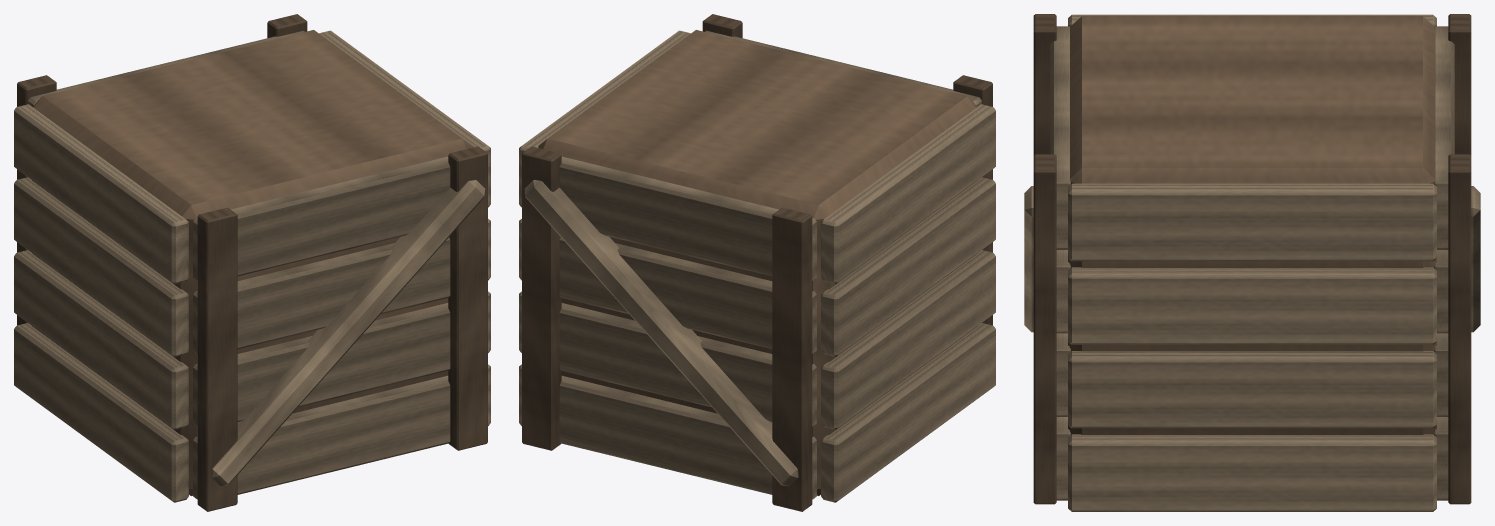
Rendered from crate.glb.
3 renders of one model, left to right at view 1: azimuth 30°, elevation 25°; view 2: azimuth 150°, elevation 25°; view 3: azimuth 270°, elevation 25°, orthographic. The views are drawn at different scales.
Parts seen in each view (by area): view 1: Timber worn edges, Weathered timber, Dark endgrain; view 2: Timber worn edges, Weathered timber, Dark endgrain; view 3: Timber worn edges, Weathered timber, Dark endgrain.
Boxes of the visible parts, box(x1,y1,x2,y2) form: Timber worn edges: box(14, 30, 490, 502); Weathered timber: box(32, 30, 471, 495); Dark endgrain: box(17, 14, 487, 511); Timber worn edges: box(519, 30, 995, 502); Weathered timber: box(538, 30, 977, 495); Dark endgrain: box(522, 14, 992, 511); Timber worn edges: box(1024, 14, 1480, 511); Weathered timber: box(1068, 16, 1436, 434); Dark endgrain: box(1033, 14, 1471, 504).
Bounding box in the file's own units: 0.459 × 0.4 × 0.495.
Materials: 3 (3 with a texture image).
